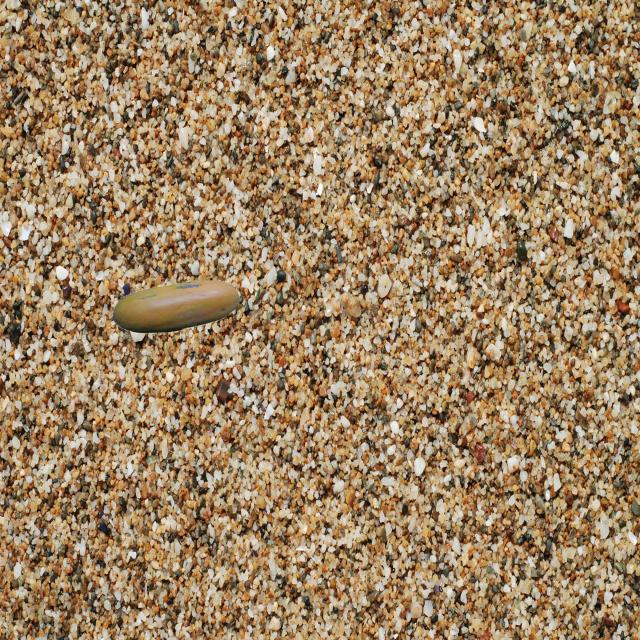Pepaya rippen: (110, 270, 244, 344)
